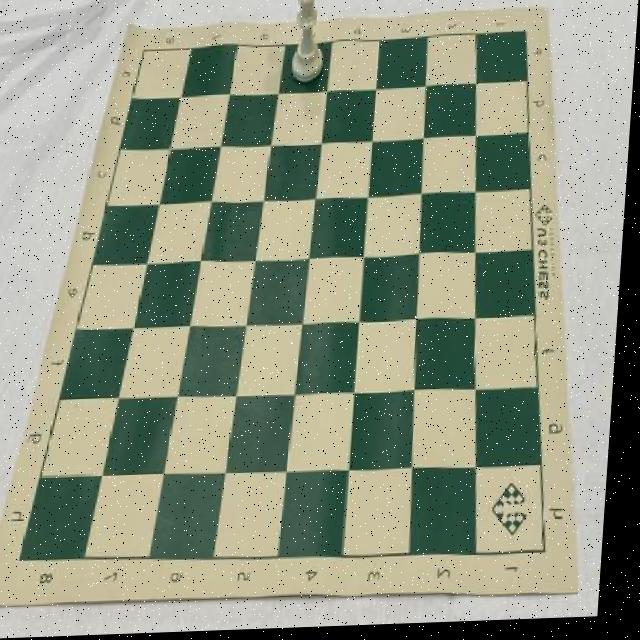white-pawn: (292, 0, 330, 86)
